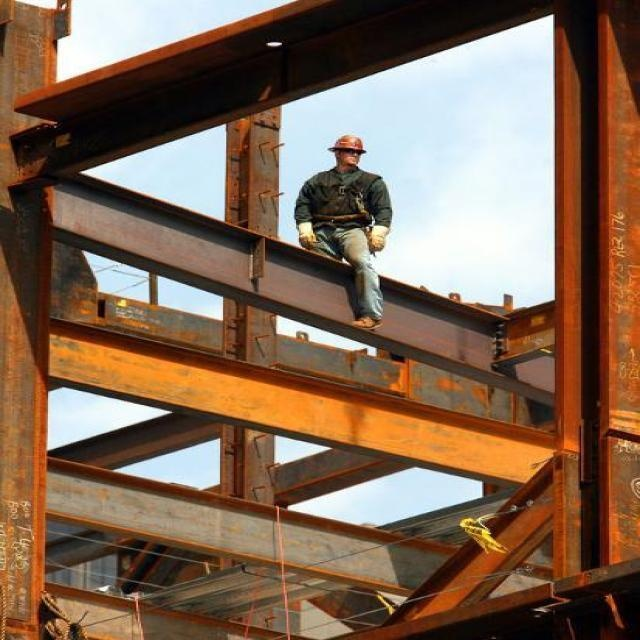Arnes_seguridad: (310, 169, 384, 236)
